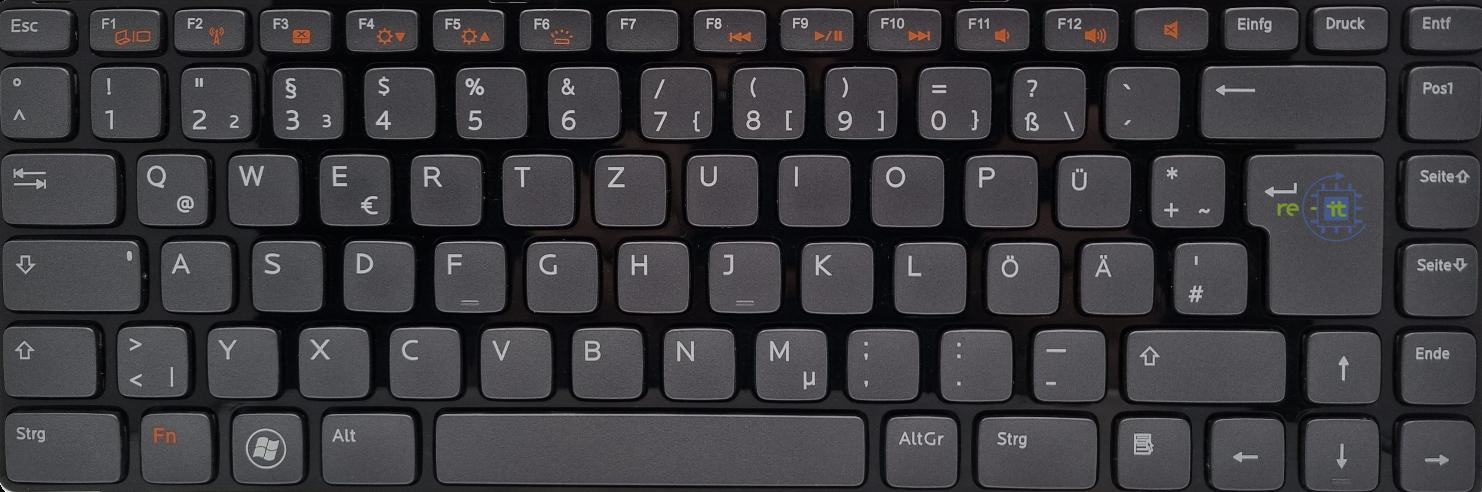0: (912, 62, 993, 140)
1: (87, 62, 163, 140)
2: (176, 62, 255, 140)
3: (266, 63, 346, 141)
4: (360, 64, 437, 140)
5: (450, 63, 529, 140)
6: (543, 63, 622, 140)
7: (636, 63, 714, 141)
8: (726, 63, 806, 141)
9: (818, 62, 899, 140)
a: (157, 236, 234, 312)
accent: (1101, 62, 1181, 140)
ae: (1075, 236, 1155, 314)
alt-left: (316, 407, 417, 486)
altgr-right: (880, 410, 959, 486)
b: (567, 323, 644, 398)
c: (385, 322, 462, 398)
caret: (1, 60, 71, 138)
comma: (842, 325, 920, 399)
d: (339, 237, 415, 312)
del: (1196, 59, 1387, 139)
e: (315, 149, 391, 226)
enter: (1243, 146, 1386, 319)
f: (430, 236, 506, 312)
g: (521, 236, 598, 312)
h: (612, 236, 690, 312)
hash: (1170, 237, 1247, 314)
i: (774, 150, 851, 226)
j: (705, 237, 781, 313)
k: (797, 236, 875, 314)
keyboard: (3, 5, 1477, 490)
l: (890, 237, 967, 313)
less: (112, 319, 190, 398)
m: (751, 323, 827, 400)
minus: (1027, 325, 1106, 400)
n: (659, 324, 735, 399)
o: (865, 150, 944, 227)
oe: (982, 237, 1060, 314)
p: (960, 149, 1039, 227)
plus: (1147, 149, 1226, 228)
point: (935, 325, 1013, 400)
q: (131, 148, 210, 227)
r: (406, 151, 483, 227)
s: (248, 236, 324, 312)
shift-left: (1, 319, 97, 398)
shift-lock: (1, 232, 143, 311)
shift-right: (1122, 324, 1286, 402)
space: (430, 407, 867, 486)
ss: (1005, 62, 1087, 141)
strg-left: (1, 405, 123, 483)
strg-right: (971, 410, 1098, 487)
t: (498, 150, 574, 226)
tab: (1, 146, 117, 225)
u: (681, 149, 759, 227)
ue: (1051, 149, 1132, 228)
v: (477, 322, 553, 398)
w: (223, 148, 299, 226)
x: (295, 321, 371, 397)
y: (204, 322, 279, 398)
z: (589, 149, 667, 227)
